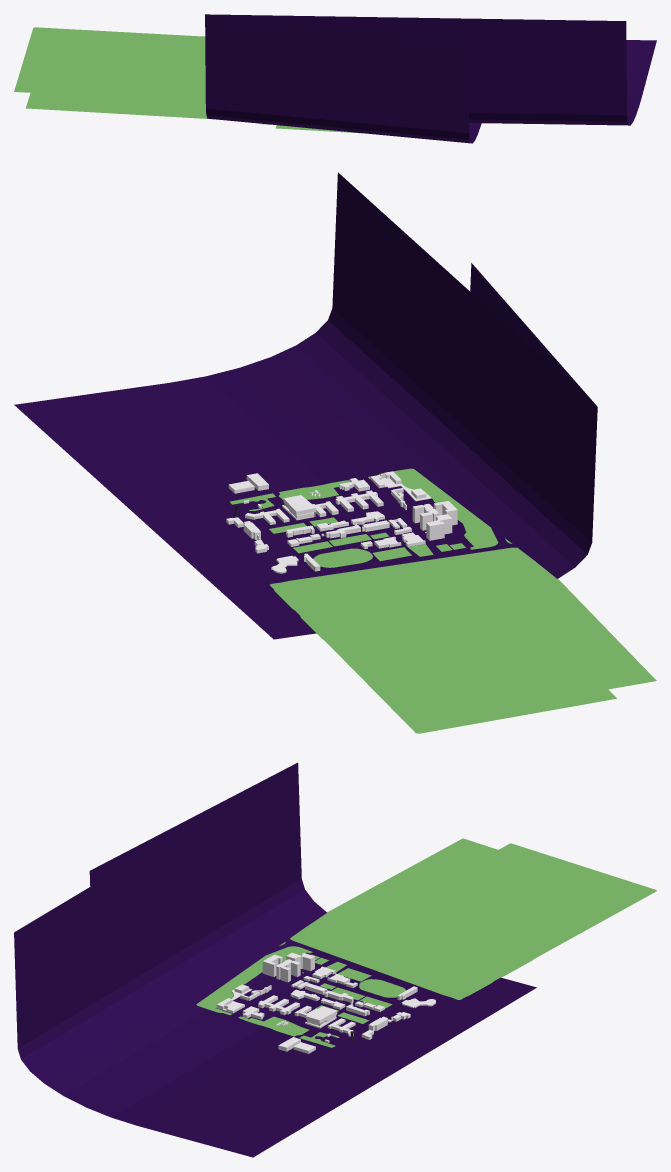
The model's file is INGLE_campus_map.glb.
3 views of the same model, one above another, from view 1: azimuth 30°, elevation 25°; view 2: azimuth 150°, elevation 25°; view 3: azimuth 270°, elevation 25° (orthographic). The views are drawn at different scales.
Parts seen in each view (by area): view 1: Plane.002, Areas:leisure.002; view 2: Plane.002, Areas:leisure.002; view 3: Plane.002, Areas:leisure.002.
Part boxes in pixels (x1=…): Plane.002: x1=205, y1=14, x2=656, y2=143; Areas:leisure.002: x1=14, y1=27, x2=361, y2=133; Plane.002: x1=14, y1=172, x2=597, y2=639; Areas:leisure.002: x1=230, y1=468, x2=656, y2=733; Plane.002: x1=14, y1=762, x2=536, y2=1157; Areas:leisure.002: x1=196, y1=838, x2=656, y2=1047.
Size of the model in its own units: 3401 by 828 by 2902.
